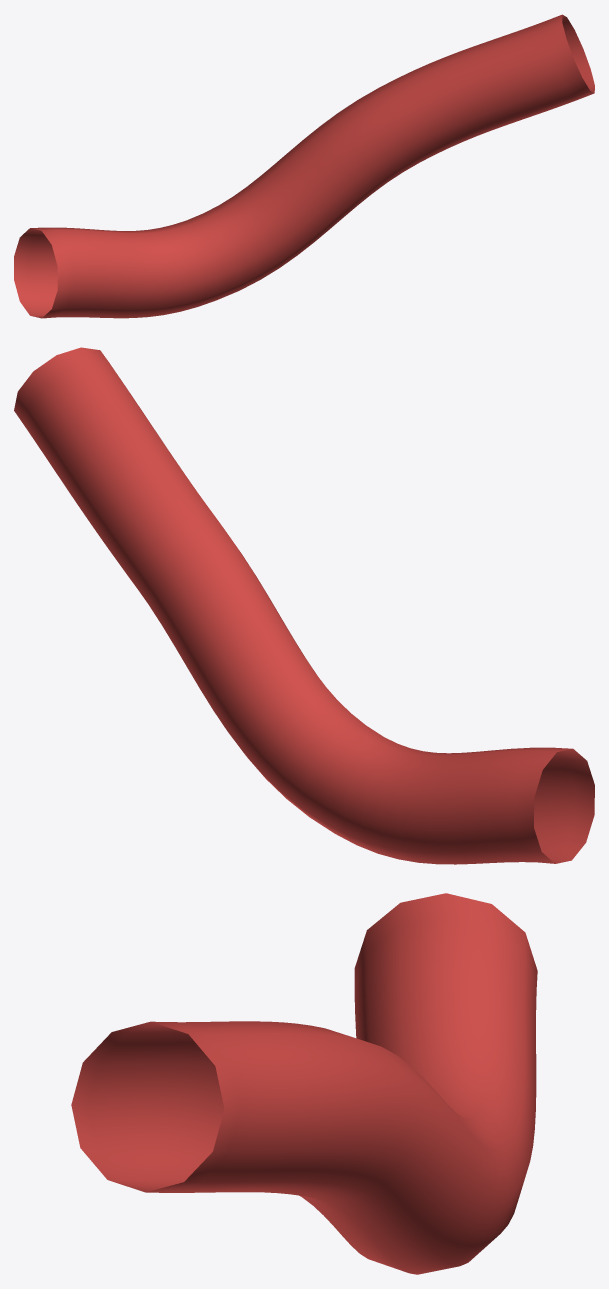
The picture shows the model from 3 angles, top to bottom: view 1: azimuth 30°, elevation 25°; view 2: azimuth 150°, elevation 25°; view 3: azimuth 270°, elevation 25°; orthographic projection. The views are drawn at different scales.
Parts seen in each view (by area): view 1: 左结肠动脉; view 2: 左结肠动脉; view 3: 左结肠动脉.
Boxes of the visible parts, x1=… form: 左结肠动脉: x1=14, y1=14, x2=594, y2=318; 左结肠动脉: x1=14, y1=347, x2=594, y2=864; 左结肠动脉: x1=71, y1=893, x2=537, y2=1274.
Size of the model in its own units: 0.0276 by 0.014 by 0.0113.
